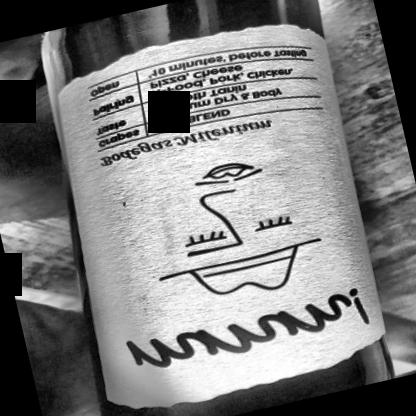umm: (39, 12, 400, 415)
